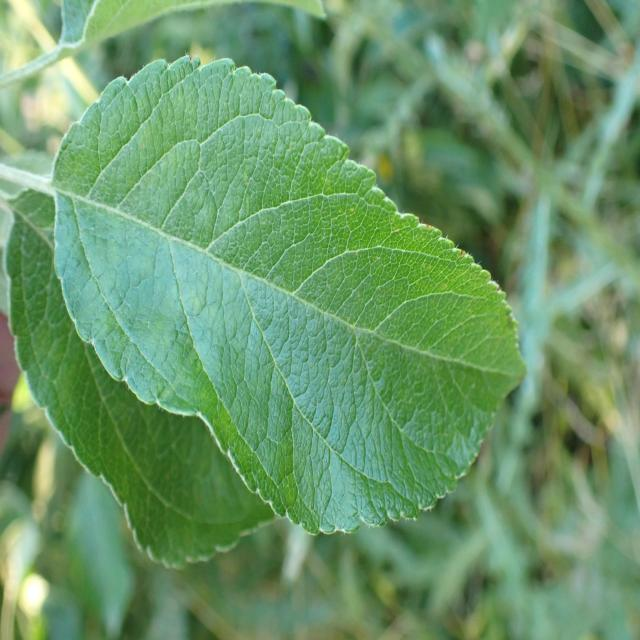healthy: (52, 55, 530, 537), (4, 181, 285, 570)
